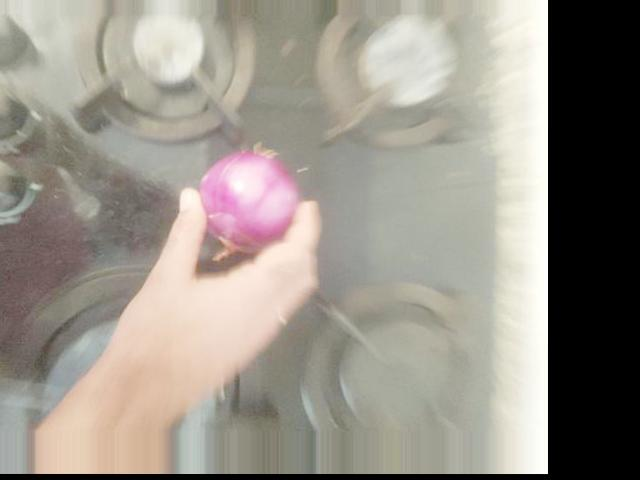onion: (285, 57, 401, 184)
